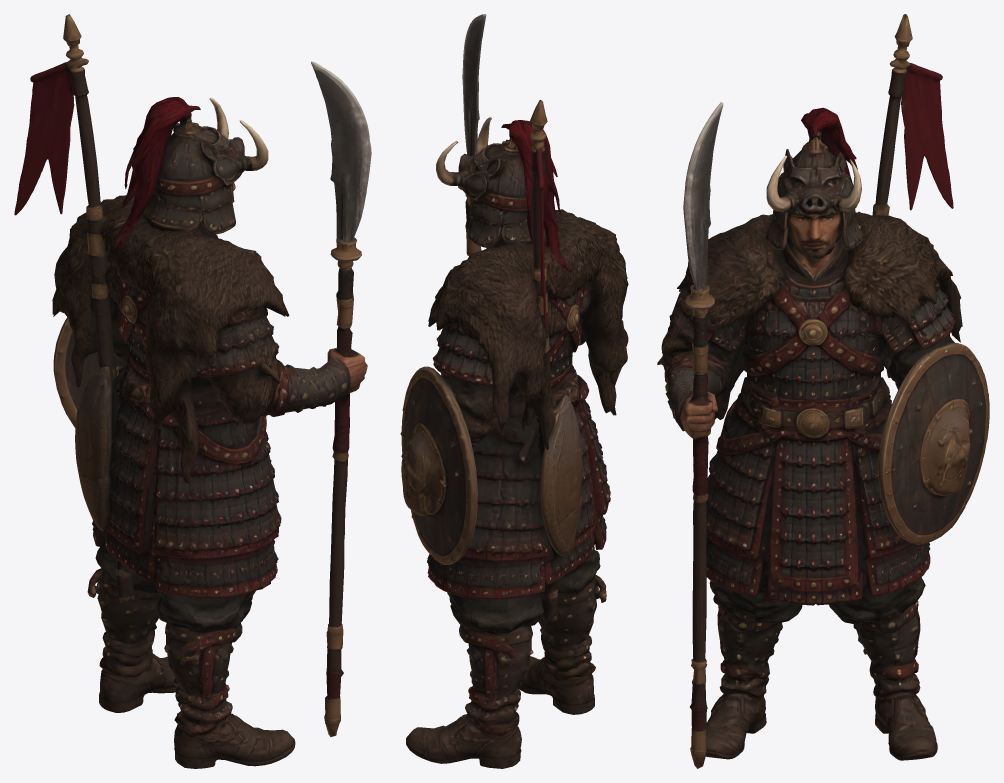
Rendered from vanguard-TulGorak-tripo.glb.
3 renders of one model, left to right at view 1: azimuth 30°, elevation 25°; view 2: azimuth 150°, elevation 25°; view 3: azimuth 270°, elevation 25°, orthographic. The views are drawn at different scales.
Parts seen in each view (by area): view 1: tripo_node_fba83333-b8b2-4b12-8428-561550a7e0c8; view 2: tripo_node_fba83333-b8b2-4b12-8428-561550a7e0c8; view 3: tripo_node_fba83333-b8b2-4b12-8428-561550a7e0c8.
Boxes of the visible parts, x1,y1,x2,y2 form: tripo_node_fba83333-b8b2-4b12-8428-561550a7e0c8: (14, 14, 371, 768); tripo_node_fba83333-b8b2-4b12-8428-561550a7e0c8: (400, 14, 628, 768); tripo_node_fba83333-b8b2-4b12-8428-561550a7e0c8: (657, 14, 989, 768).
Size of the model in its own units: 0.3321 by 1 by 0.436.
Materials: 1 (1 with a texture image).
